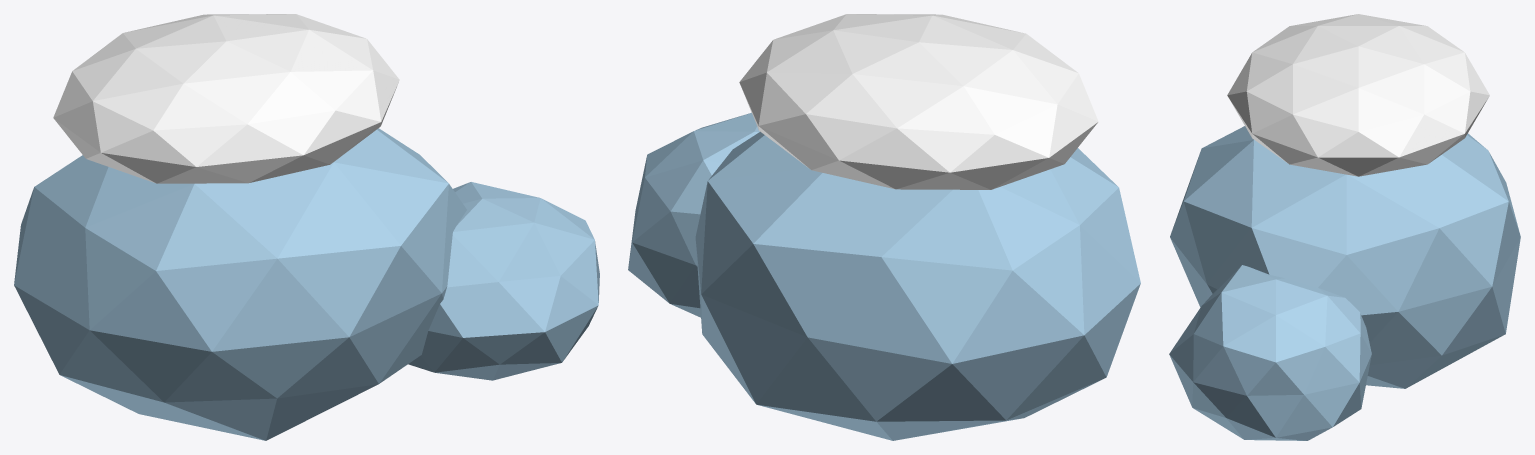
File: snow-boulder.glb
3 views of the same model, side by side, from view 1: azimuth 30°, elevation 25°; view 2: azimuth 150°, elevation 25°; view 3: azimuth 270°, elevation 25° (orthographic). The views are drawn at different scales.
Parts seen in each view (by area): view 1: ice-snow-boulder; view 2: ice-snow-boulder; view 3: ice-snow-boulder.
Boxes of the visible parts, bbox=[...] form: ice-snow-boulder: bbox=[14, 14, 599, 440]; ice-snow-boulder: bbox=[628, 14, 1140, 440]; ice-snow-boulder: bbox=[1169, 14, 1520, 440].
Bounding box in the file's own units: 0.8216 × 0.5925 × 0.5915.
